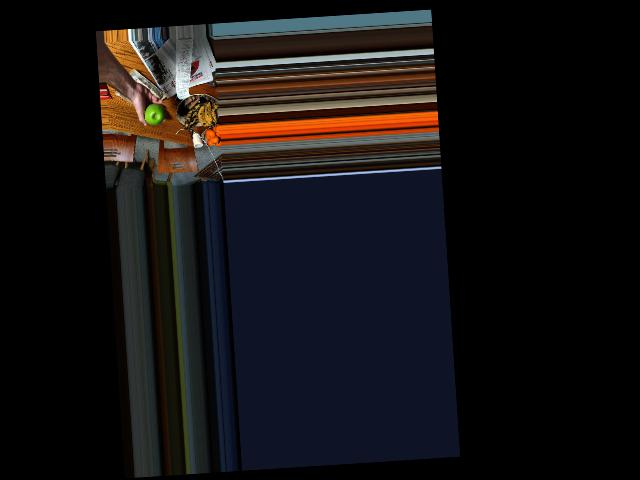apple: (144, 98, 165, 130)
